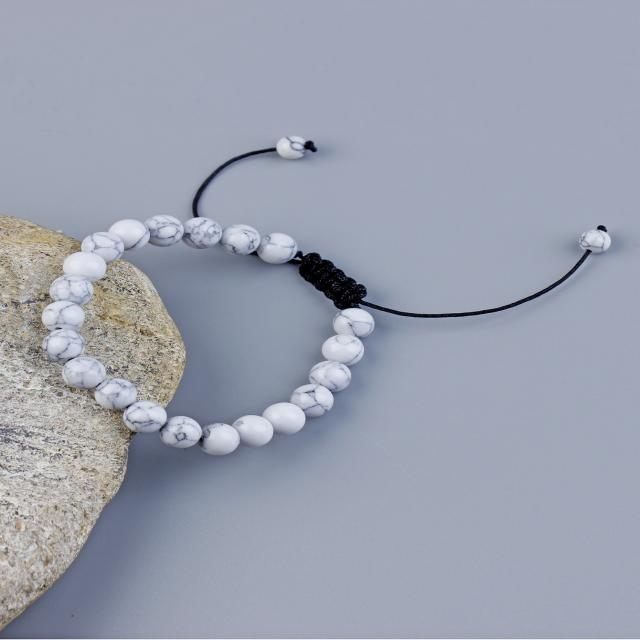bracelet: (10, 69, 640, 518)
